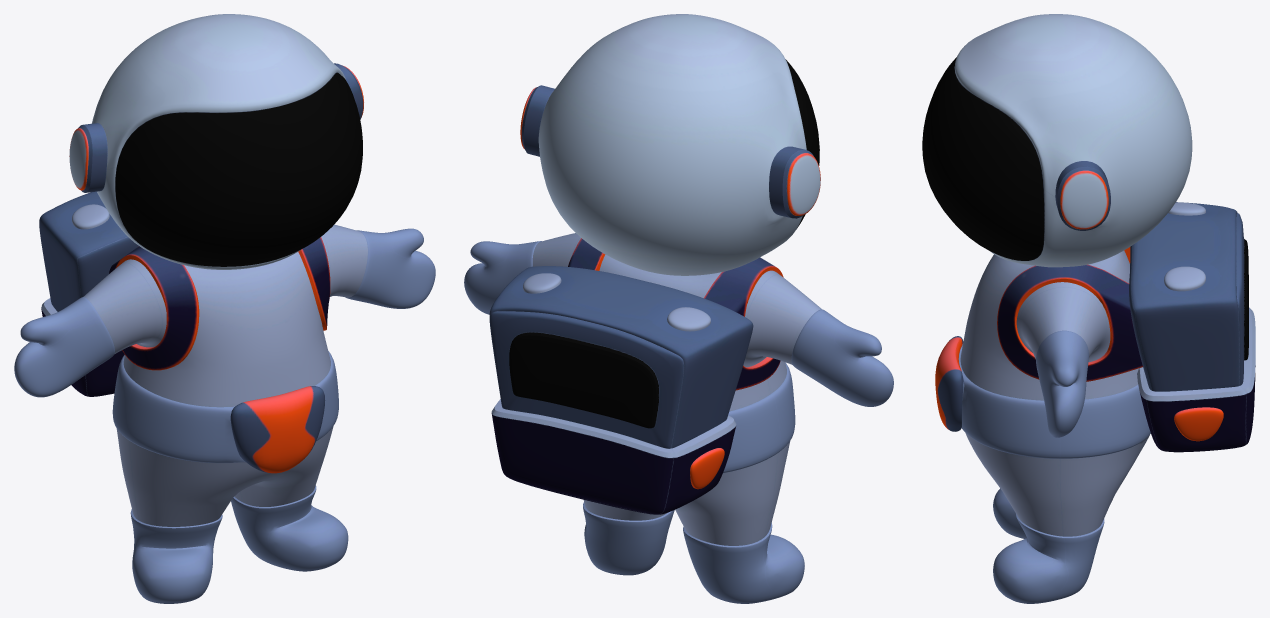
Rendered from Astronaut.gltf.
The picture shows the model from 3 angles, left to right: view 1: azimuth 30°, elevation 25°; view 2: azimuth 150°, elevation 25°; view 3: azimuth 270°, elevation 25°; orthographic projection. The views are drawn at different scales.
Parts seen in each view (by area): view 1: Blue astronaut 5; view 2: Blue astronaut 5; view 3: Blue astronaut 5.
Boxes of the visible parts, bbox=[...] form: Blue astronaut 5: bbox=[14, 14, 435, 603]; Blue astronaut 5: bbox=[464, 14, 893, 603]; Blue astronaut 5: bbox=[922, 14, 1255, 603].
Bounding box in the file's own units: 1.37 × 1.7 × 0.9635.
Materials: 1 (1 with a texture image).
